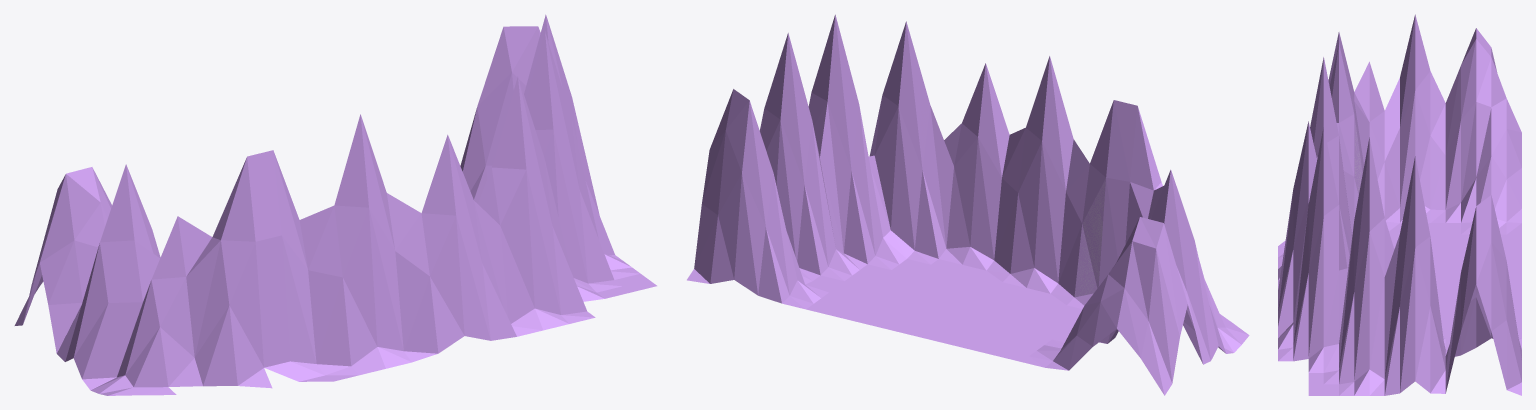
File: terrain_y.dae
3 renders of one model, left to right at view 1: azimuth 30°, elevation 25°; view 2: azimuth 150°, elevation 25°; view 3: azimuth 270°, elevation 25°, orthographic. The views are drawn at different scales.
Parts seen in each view (by area): view 1: group_0_005; view 2: group_0_005, group_0_006; view 3: group_0_005, group_0_006.
Part boxes in pixels (<box>): group_0_005: <box>14,14,656,395</box>; group_0_005: <box>687,14,1249,395</box>; group_0_006: <box>1074,178,1105,297</box>; group_0_005: <box>1278,14,1521,395</box>; group_0_006: <box>1354,116,1362,195</box>.
Bounding box in the file's own units: 409 × 183 × 191.
